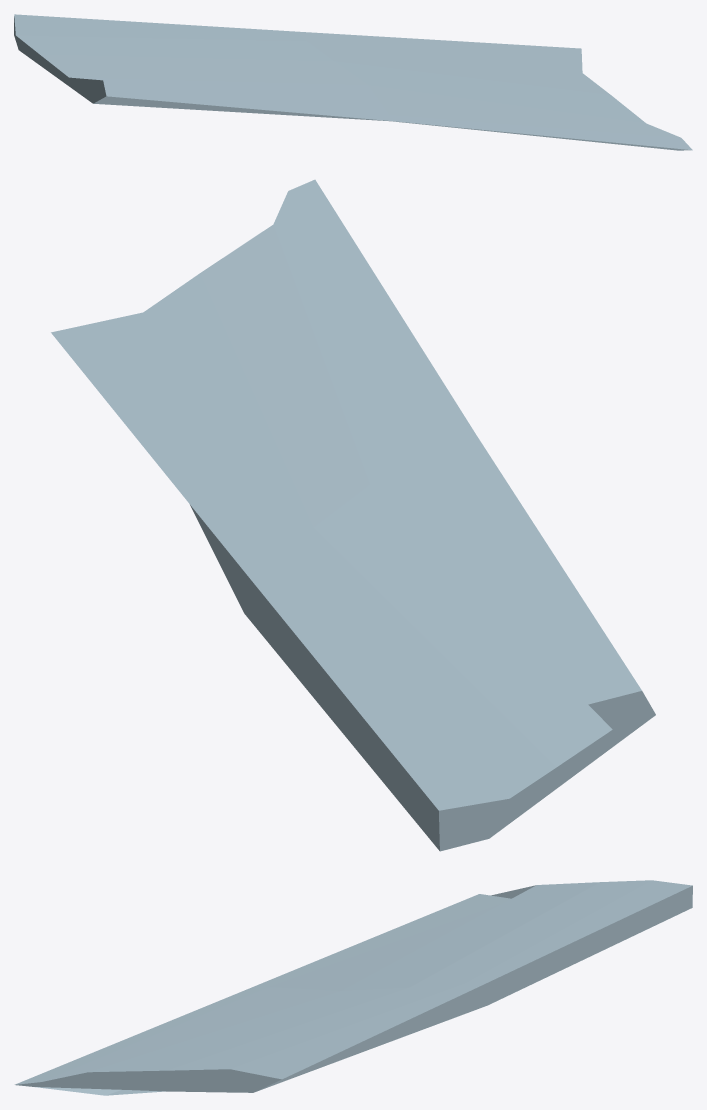
Rendered from su33d_slat_inner_right.glb.
3 renders of one model, top to bottom at view 1: azimuth 30°, elevation 25°; view 2: azimuth 150°, elevation 25°; view 3: azimuth 270°, elevation 25°, orthographic. The views are drawn at different scales.
Parts seen in each view (by area): view 1: 0_SlatInnerRight; view 2: 0_SlatInnerRight; view 3: 0_SlatInnerRight.
Boxes of the visible parts, box(x1,y1,x2,y2) form: 0_SlatInnerRight: box(14, 14, 692, 150); 0_SlatInnerRight: box(51, 179, 655, 851); 0_SlatInnerRight: box(14, 880, 692, 1095).
Size of the model in its own units: 1.44 by 0.1106 by 1.94.
